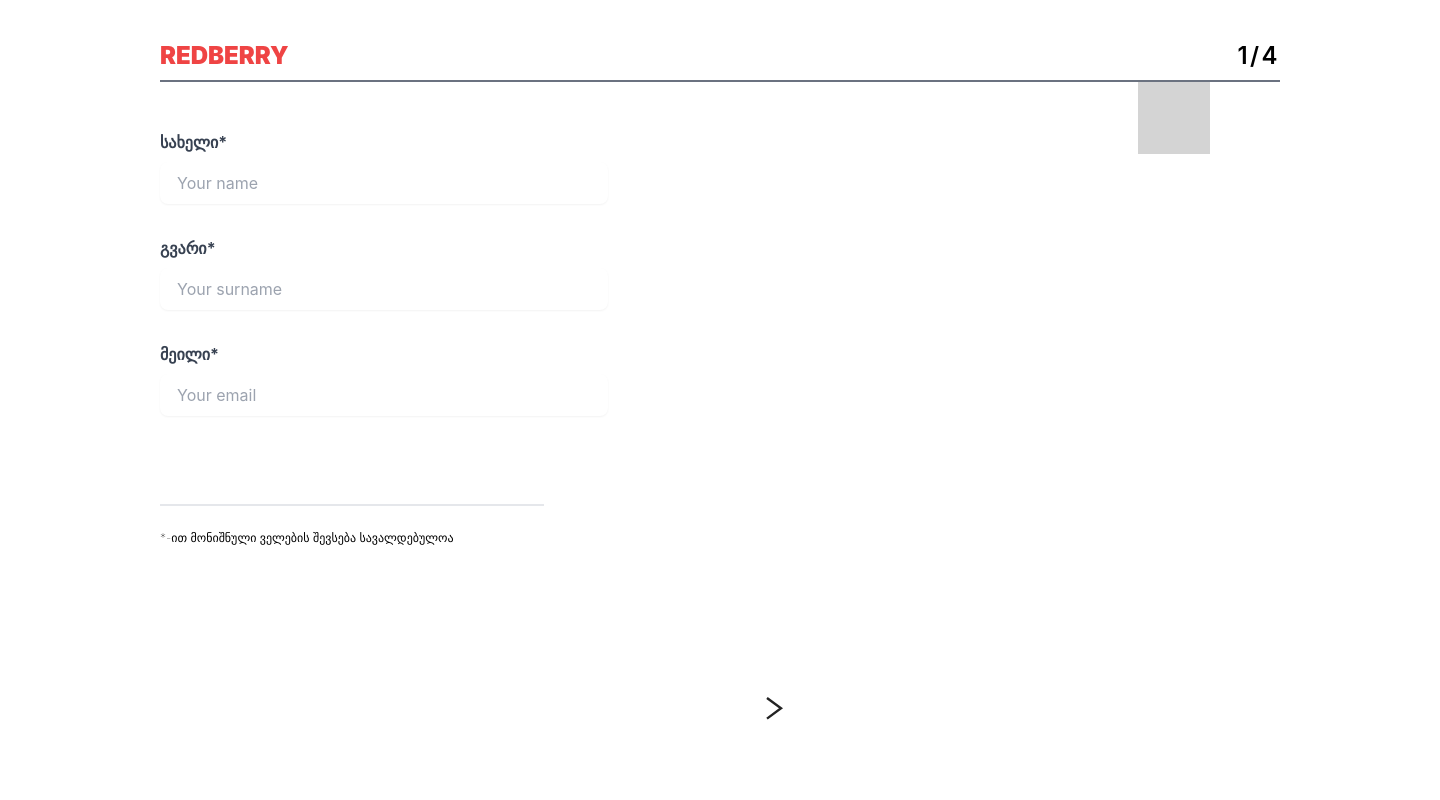
Scenario: identification › user cant go to next page if inputs are empty
The width and height of the screenshot is (1440, 800).
Click the button with id "nextButton" at (775, 709), box [766,697,784,720]
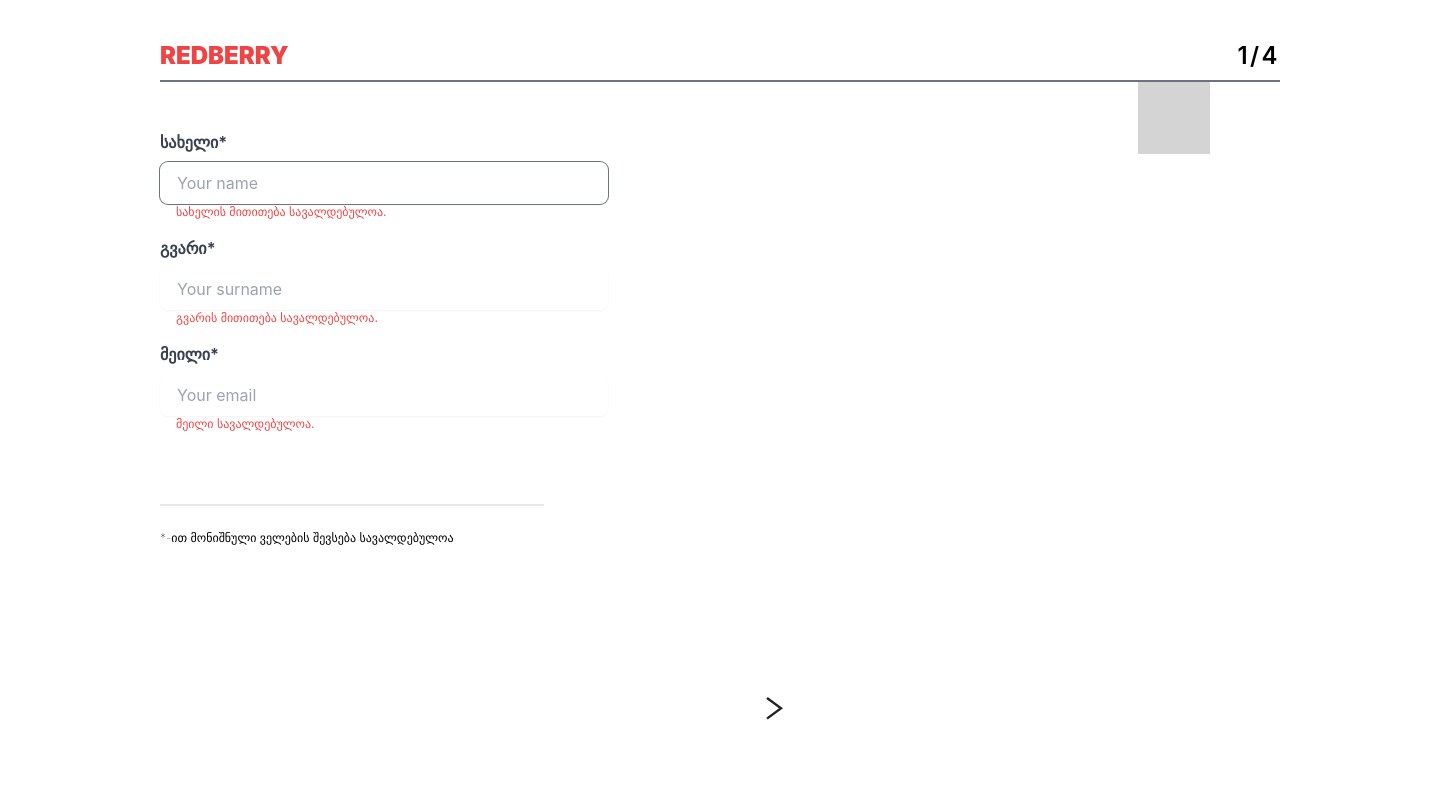
Now the text "სახელის მითითება სავალდებულოა" is shown, box [176,204,387,219]
Now the text "გვარის მითითება სავალდებულოა" is shown, box [176,310,378,325]
Now the text "მეილი სავალდებულოა" is shown, box [176,416,314,431]
